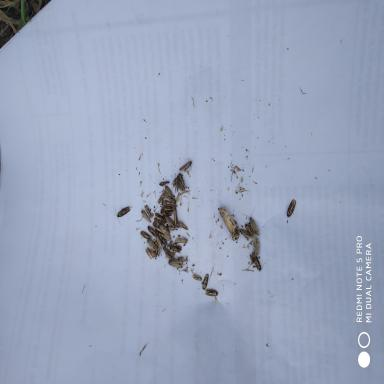pbw: (112, 204, 135, 224), (284, 197, 298, 220), (250, 251, 264, 273), (176, 157, 196, 172), (236, 224, 253, 241), (252, 232, 262, 258), (176, 170, 188, 190), (155, 188, 169, 205), (161, 244, 175, 261), (164, 182, 177, 200), (165, 258, 184, 270), (139, 208, 153, 224), (162, 214, 178, 228), (203, 286, 219, 300), (199, 271, 210, 291), (151, 211, 167, 224), (143, 247, 158, 260), (157, 223, 172, 236), (155, 231, 168, 246), (144, 237, 158, 250), (146, 224, 158, 238), (175, 220, 189, 232), (139, 230, 154, 241), (173, 236, 189, 246), (191, 272, 204, 284), (160, 199, 176, 208), (158, 208, 174, 217), (157, 178, 171, 187), (174, 206, 180, 226), (168, 244, 183, 252), (176, 256, 188, 263)
